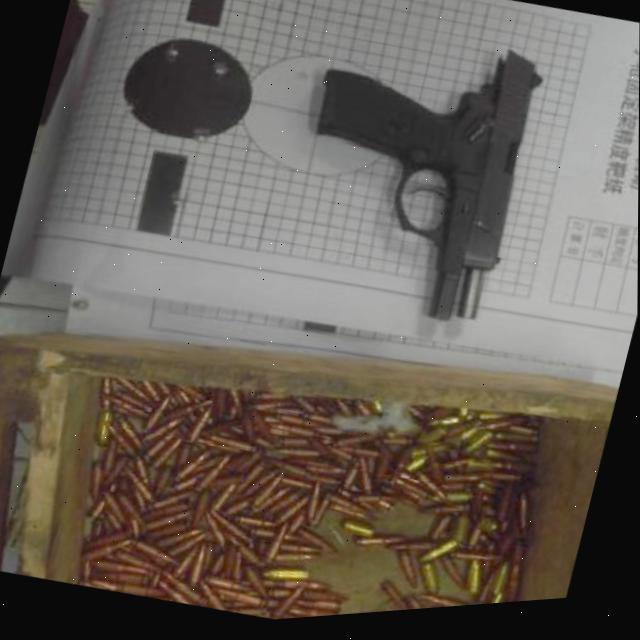gun: (268, 9, 554, 350)
